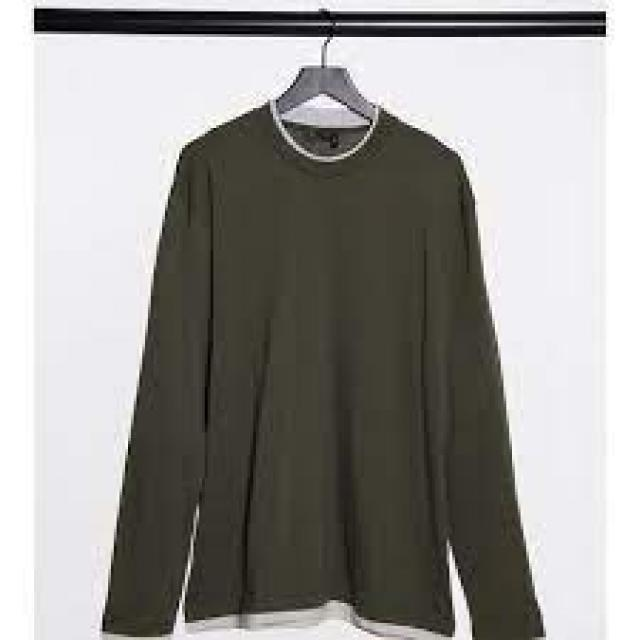plain: (93, 99, 546, 640)
